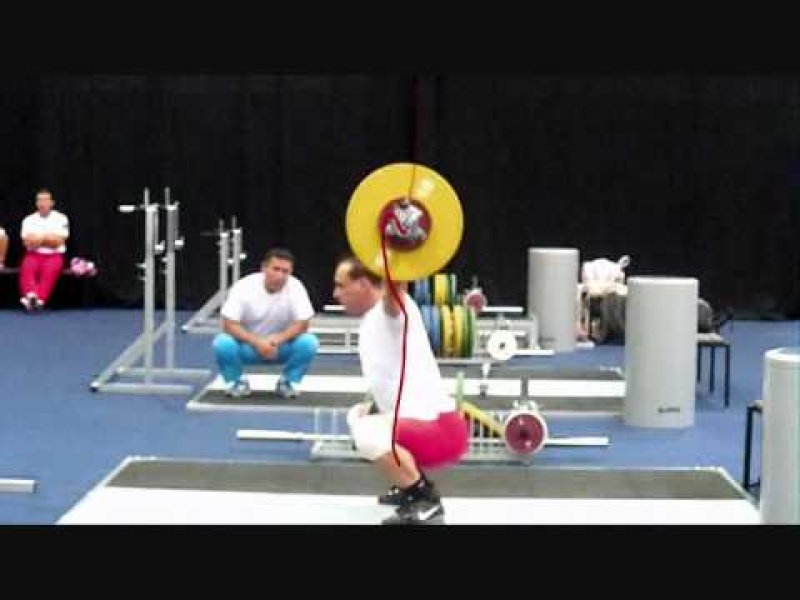barbell: (340, 160, 475, 291)
